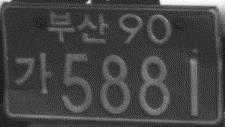0: (144, 12, 172, 47)
1: (186, 54, 200, 119)
5: (60, 50, 93, 115)
8: (138, 54, 170, 116), (99, 52, 130, 115)
9: (117, 10, 143, 46)
가: (13, 50, 53, 96)
부산_O: (45, 8, 110, 46)
